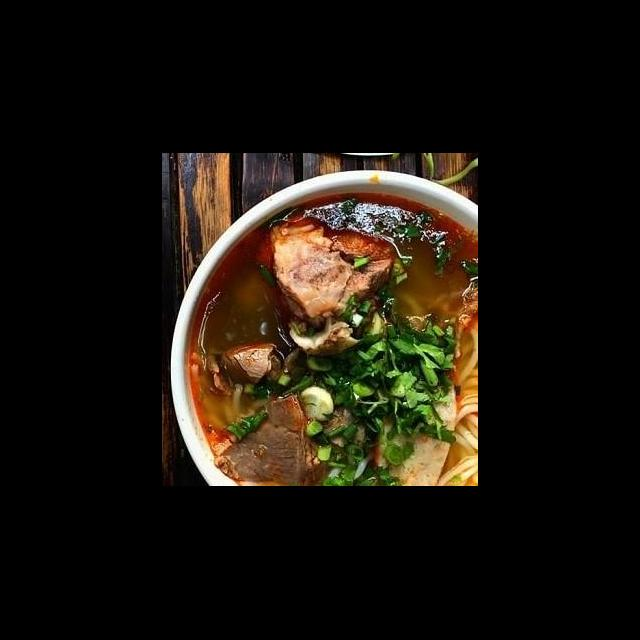bun: (432, 322, 478, 487), (186, 352, 258, 434)
bun bo: (187, 196, 478, 480)
thit bo: (212, 386, 335, 486), (219, 336, 288, 396)
